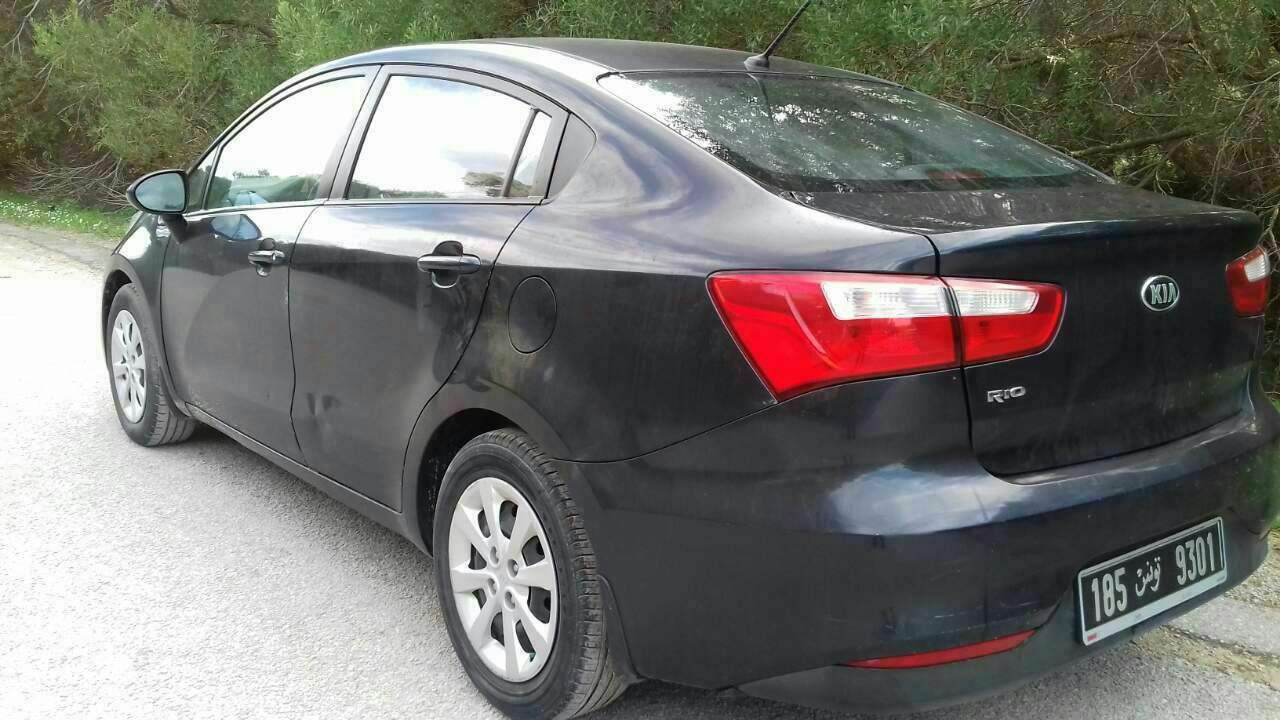LP: (1075, 516, 1230, 641)
